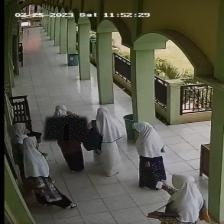Cadar_Niqab: (43, 104, 89, 140)
